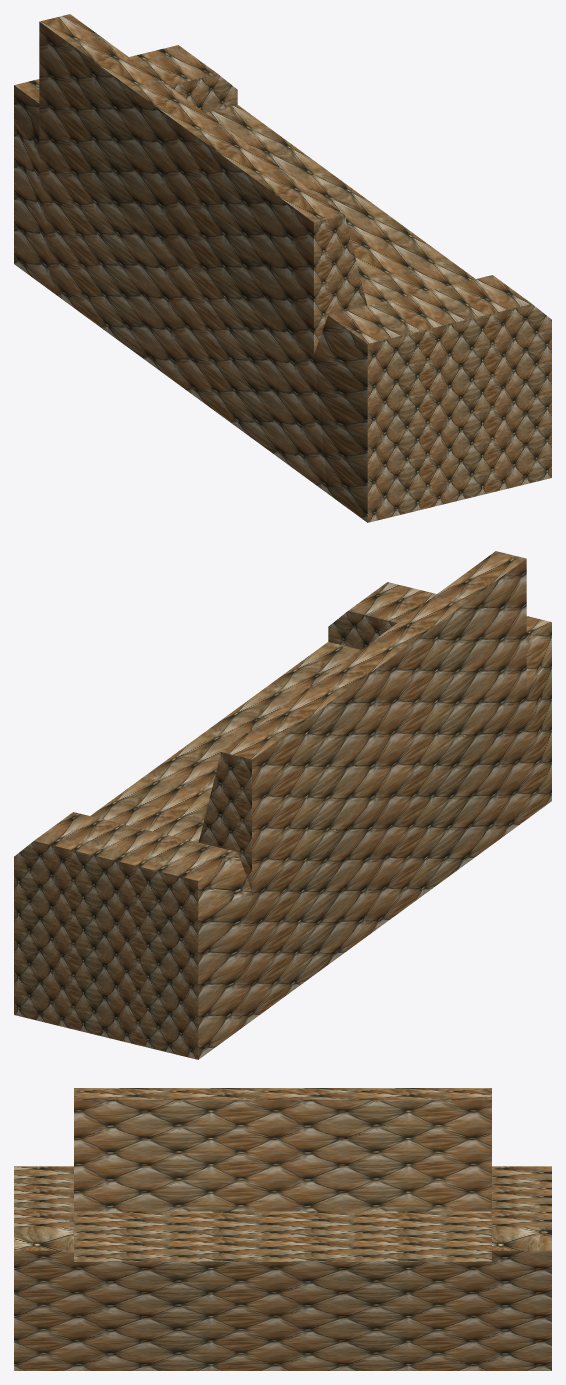
The model's file is BankHoogU.fbx.
3 views of the same model, one above another, from view 1: azimuth 30°, elevation 25°; view 2: azimuth 150°, elevation 25°; view 3: azimuth 270°, elevation 25° (orthographic). The views are drawn at different scales.
Visible parts, largest first — view 1: Cube; view 2: Cube; view 3: Cube.
Part boxes in pixels (<box>): Cube: <box>14,14,551,522</box>; Cube: <box>14,551,551,1059</box>; Cube: <box>14,1088,551,1370</box>.
Size of the model in its own units: 290 by 384 by 896.
